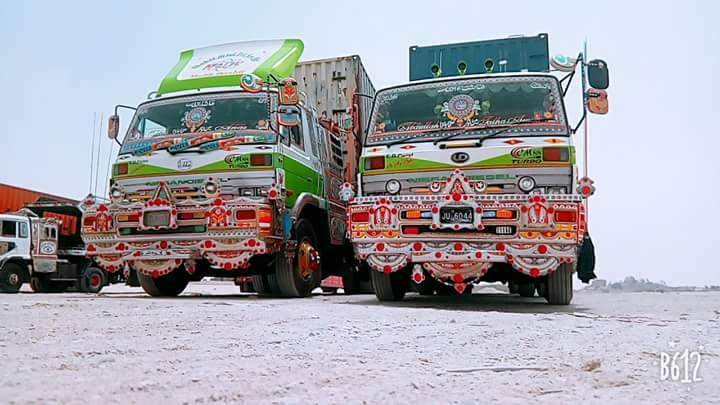Truck: (80, 29, 380, 297), (344, 32, 611, 306), (0, 194, 105, 293)
